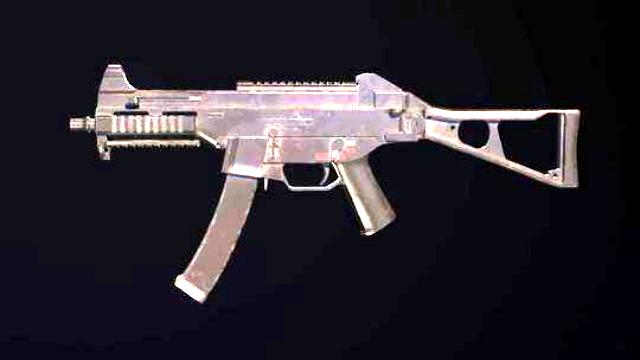rifle: (61, 54, 593, 316)
